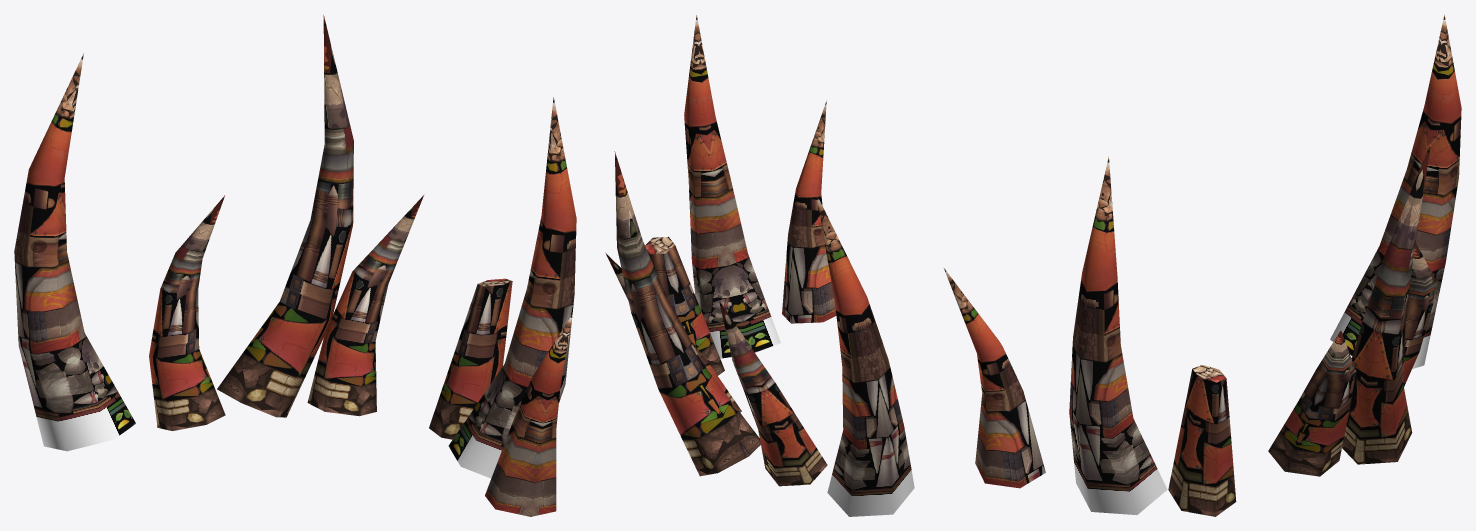
Rendered from area_06_4.fbx.
3 renders of one model, left to right at view 1: azimuth 30°, elevation 25°; view 2: azimuth 150°, elevation 25°; view 3: azimuth 270°, elevation 25°, orthographic. The views are drawn at different scales.
Visible parts, largest first — view 1: area_06_4; view 2: area_06_4; view 3: area_06_4.
Part boxes in pixels (<box>): area_06_4: <box>14,15,576,516</box>; area_06_4: <box>605,15,914,516</box>; area_06_4: <box>944,14,1461,516</box>.
Size of the model in its own units: 10.93 by 10.09 by 12.52.
